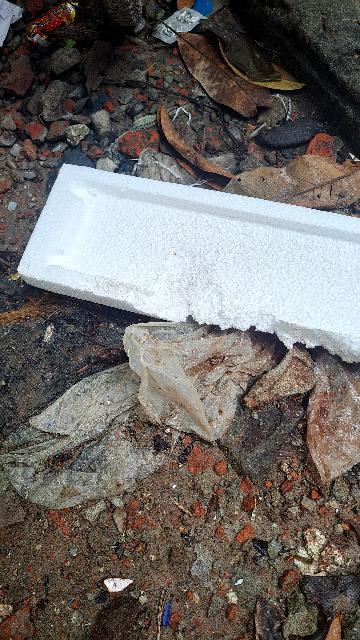cocksheet: (12, 127, 360, 369)
